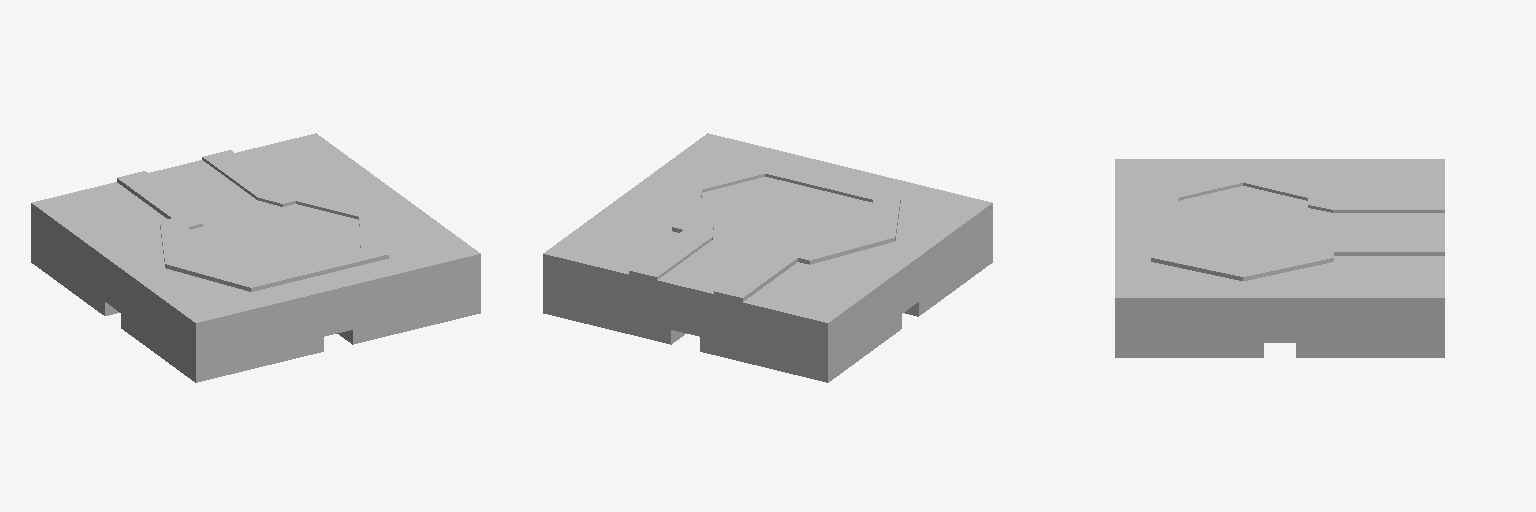
Rendered from puzzlePiece_turnabout_S.obj.
The picture shows the model from 3 angles: view 1: azimuth 30°, elevation 25°; view 2: azimuth 150°, elevation 25°; view 3: azimuth 270°, elevation 25°; orthographic projection.
Visible parts, largest first — view 1: polySurface18 puzzlePiece_straight:pCube6, polySurface22, polySurface21; view 2: polySurface18 puzzlePiece_straight:pCube6, polySurface22, polySurface21; view 3: polySurface18 puzzlePiece_straight:pCube6, polySurface22, polySurface21.
Boxes of the visible parts, <box> form: polySurface18 puzzlePiece_straight:pCube6: <box>31,133,480,382</box>; polySurface22: <box>149,160,359,274</box>; polySurface21: <box>117,150,388,291</box>; polySurface18 puzzlePiece_straight:pCube6: <box>543,133,992,382</box>; polySurface22: <box>657,177,871,295</box>; polySurface21: <box>629,160,900,306</box>; polySurface18 puzzlePiece_straight:pCube6: <box>1115,159,1444,357</box>; polySurface22: <box>1178,186,1444,264</box>; polySurface21: <box>1151,171,1444,280</box>.
Bounding box in the file's own units: 0.5 × 0.107 × 0.5.